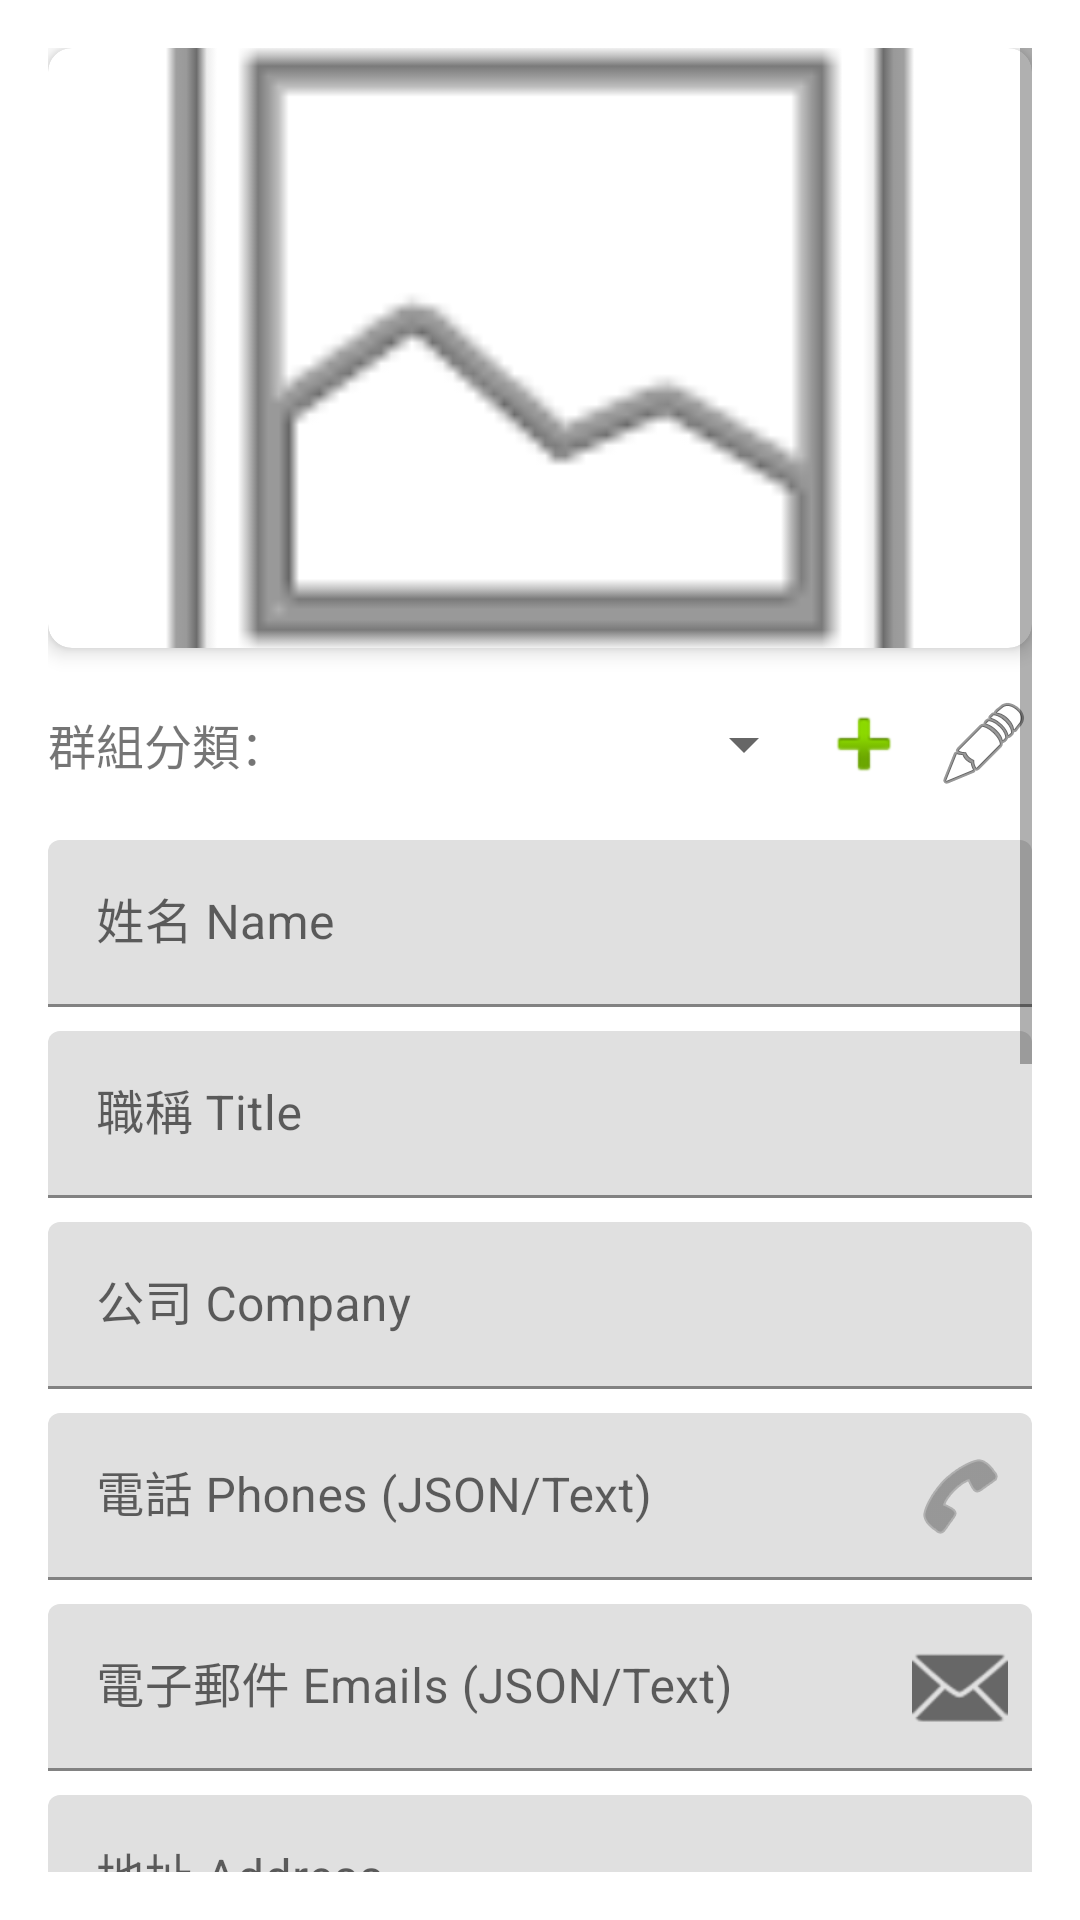

Where to tap for icons on this 1080 × 1920 app screen, as (x,y):
新增分類: (864,744)
管理分類: (987,744)
